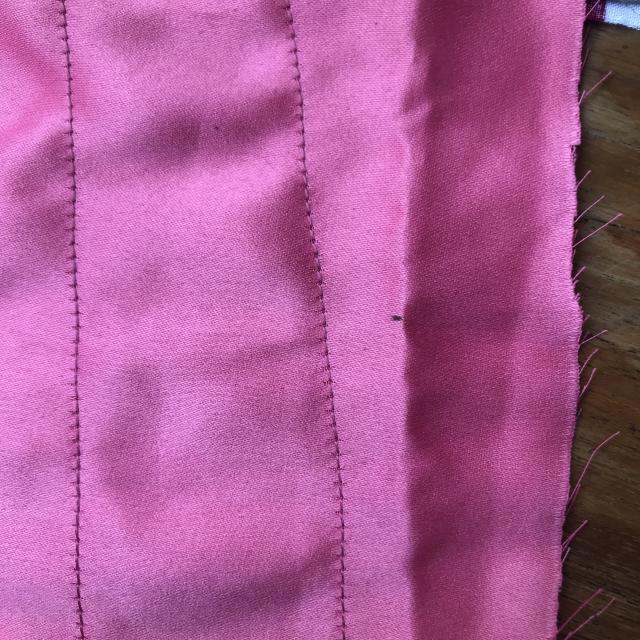good: (287, 168, 349, 294)
